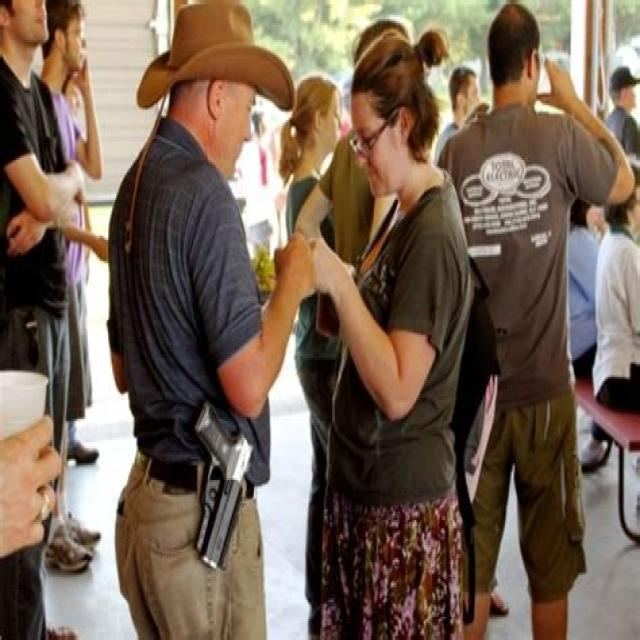weapons: (180, 388, 271, 588)
